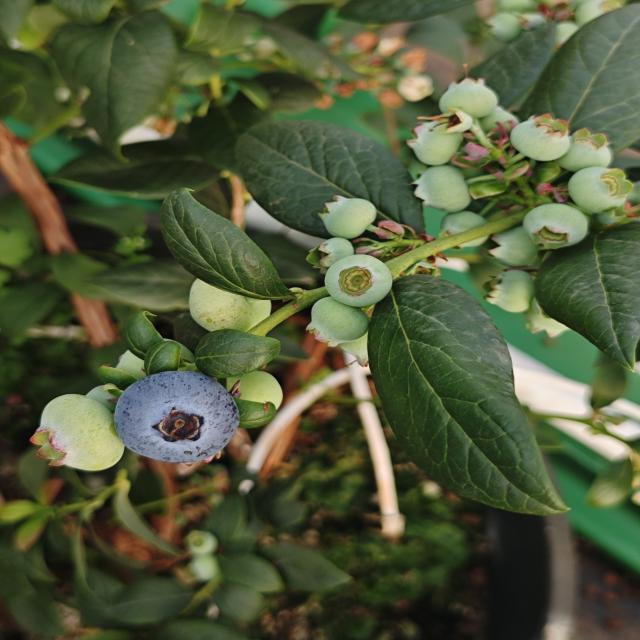ripe: (105, 367, 257, 464)
